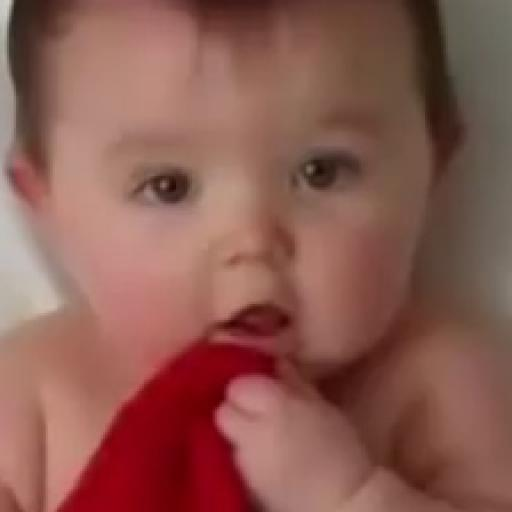Autism: (57, 0, 450, 386)
